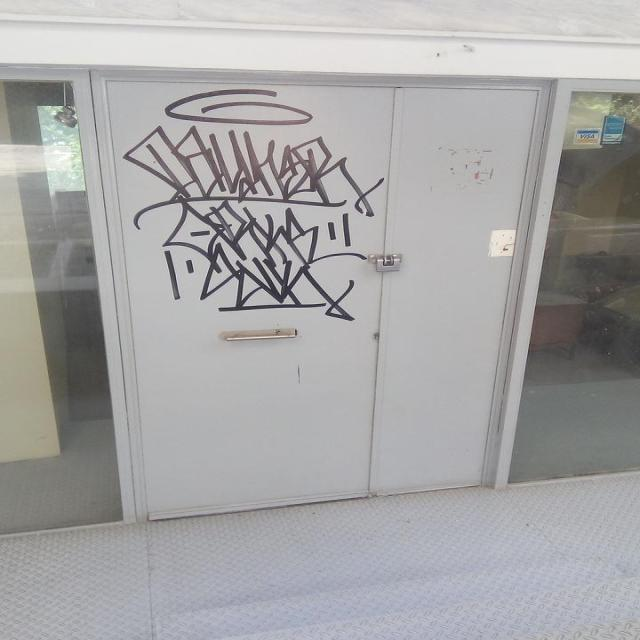nonspitting: (121, 87, 386, 326)
